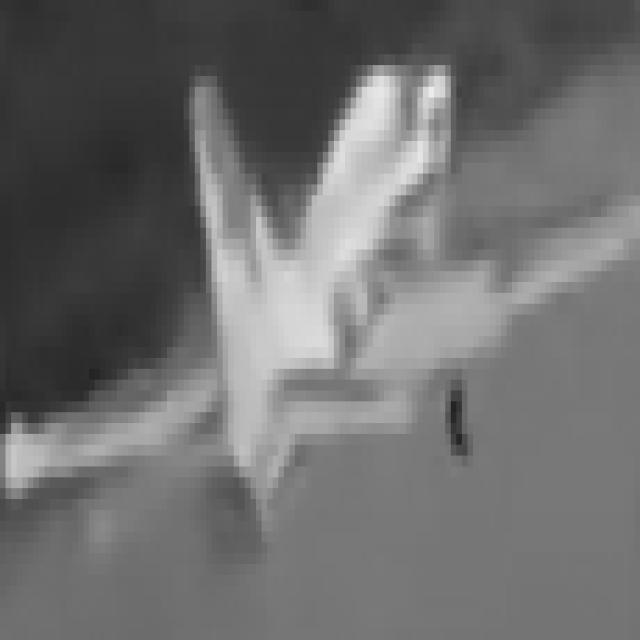iha: (5, 0, 634, 499)
